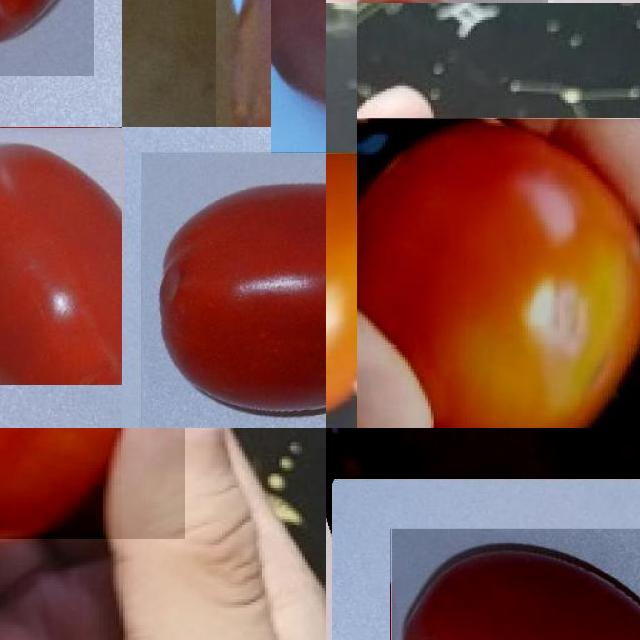0: (357, 118, 640, 428)
1: (0, 428, 185, 539)
Fresh Tomato: (141, 152, 326, 428), (0, 127, 122, 385), (390, 528, 640, 640), (0, 0, 94, 76)
Rotten Tomato: (332, 428, 640, 479)
